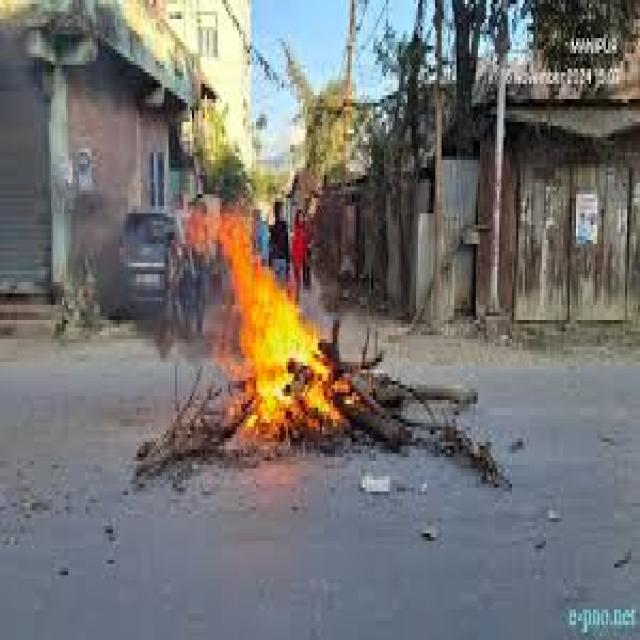fire: (185, 206, 346, 431)
